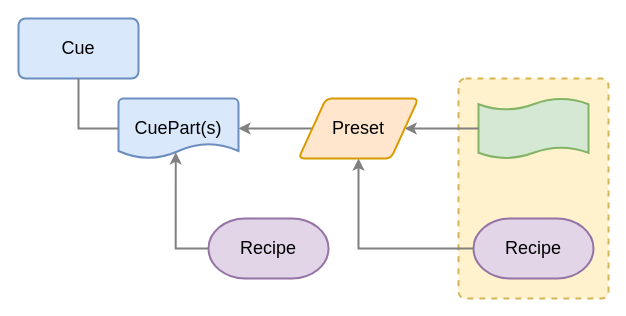
Image size: 626x316. Some labels were removed from this diagram. The box of each missing label's shape, as (x1, y1, x2, y2) in pixels:
MAtricks: (477, 97, 589, 159)
OR: (457, 77, 609, 299)
